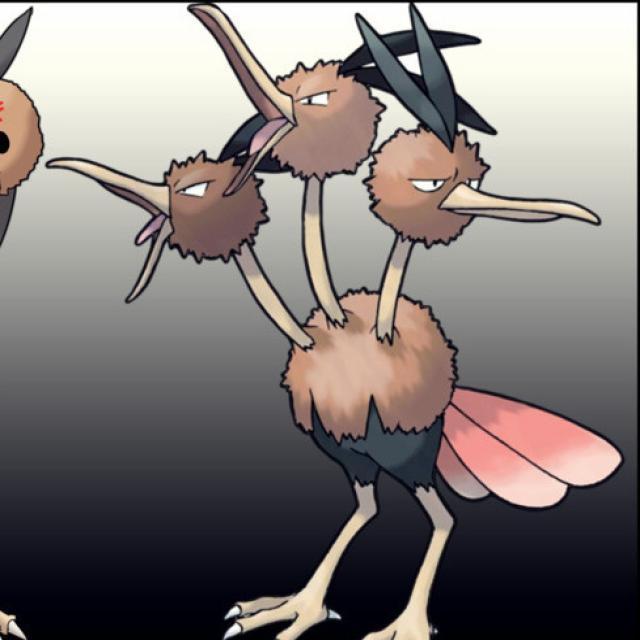Dodrio: (142, 54, 506, 640)
